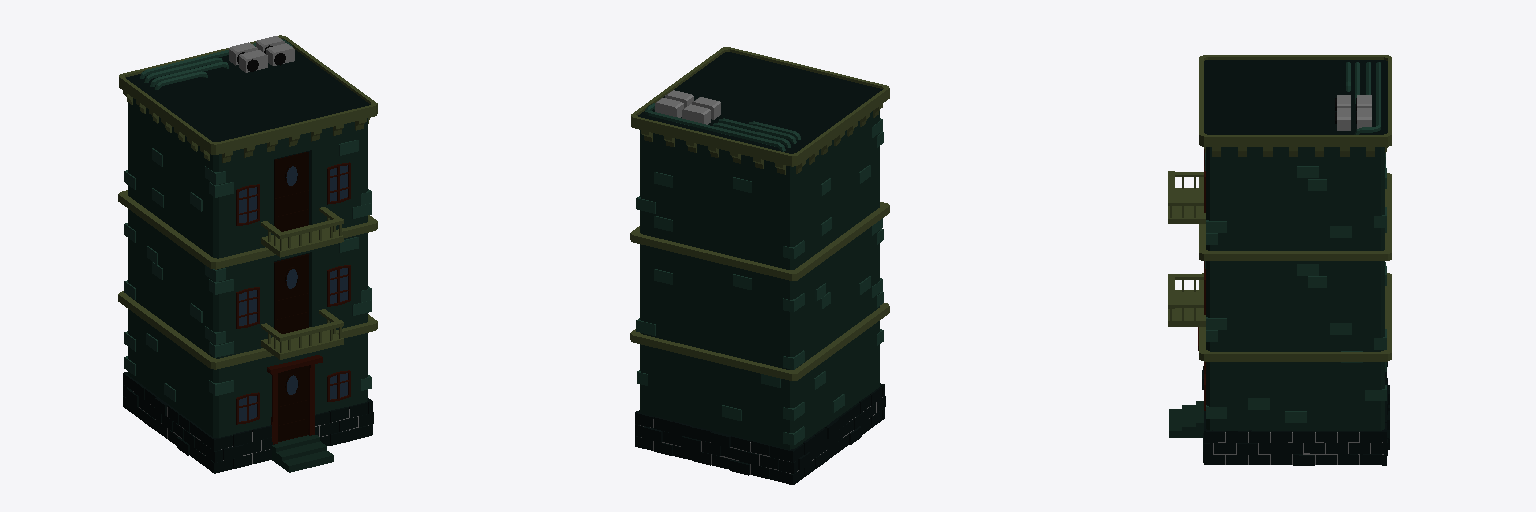
File: 3Story_Balcony_Mat.obj
3 renders of one model, left to right at view 1: azimuth 30°, elevation 25°; view 2: azimuth 150°, elevation 25°; view 3: azimuth 270°, elevation 25°, orthographic.
Visible parts, largest first — view 1: 3Story_Balcony_Mat_Cube.026; view 2: 3Story_Balcony_Mat_Cube.026; view 3: 3Story_Balcony_Mat_Cube.026.
Part boxes in pixels (left/top/right/bottom): 3Story_Balcony_Mat_Cube.026: left=118, top=35, right=377, bottom=473; 3Story_Balcony_Mat_Cube.026: left=630, top=47, right=889, bottom=484; 3Story_Balcony_Mat_Cube.026: left=1168, top=55, right=1391, bottom=465.
Size of the model in its own units: 2.16 by 4.21 by 2.51.